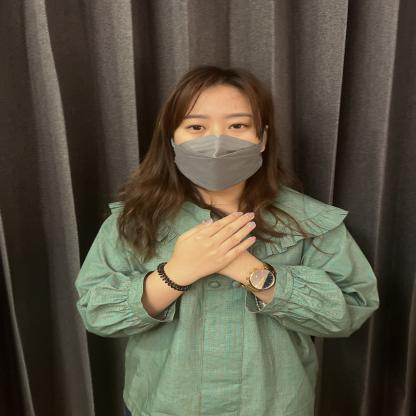Grieve: (54, 180, 398, 294)
